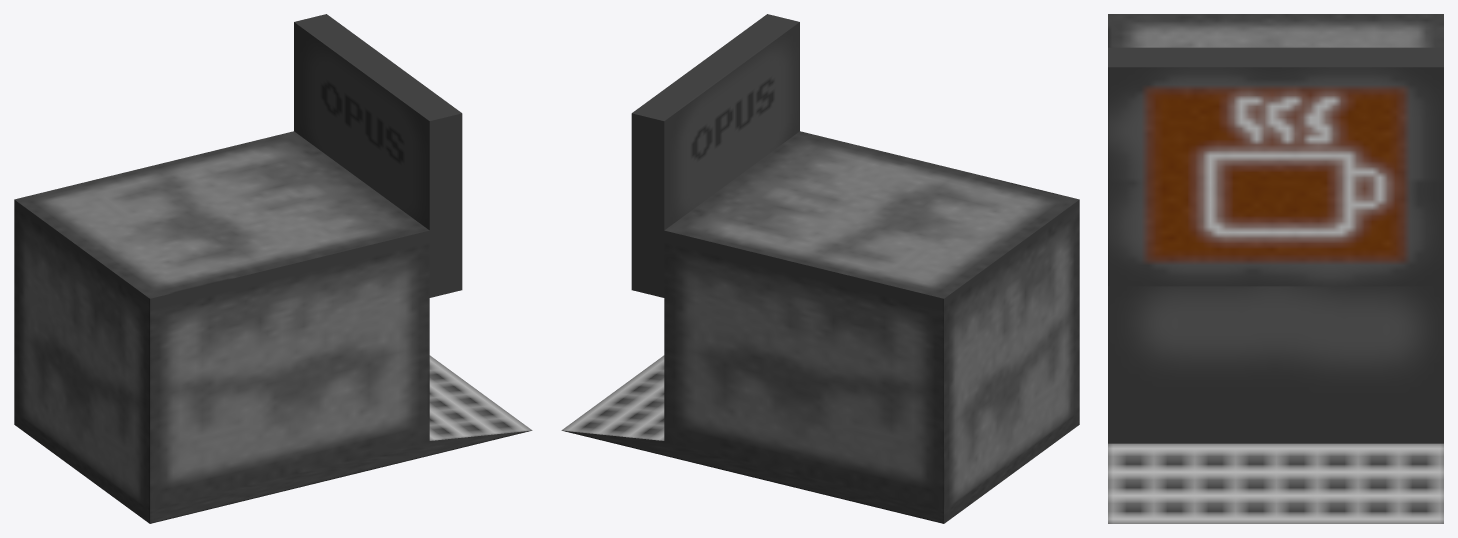
File: LP_COFFEEMACHINE.fbx
The picture shows the model from 3 angles, left to right: view 1: azimuth 30°, elevation 25°; view 2: azimuth 150°, elevation 25°; view 3: azimuth 270°, elevation 25°; orthographic projection. The views are drawn at different scales.
Parts seen in each view (by area): view 1: Cube; view 2: Cube; view 3: Cube.
Boxes of the visible parts, left/top/right/bottom form: Cube: left=14, top=14, right=532, bottom=523; Cube: left=561, top=14, right=1079, bottom=523; Cube: left=1108, top=14, right=1443, bottom=523.
Bounding box in the file's own units: 220 × 184 × 135.
Materials: 1 (1 with a texture image).
